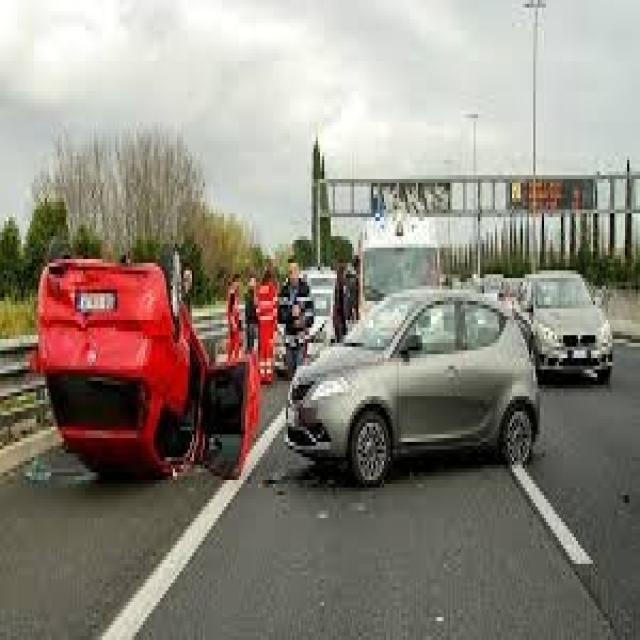accident: (23, 222, 269, 528)
